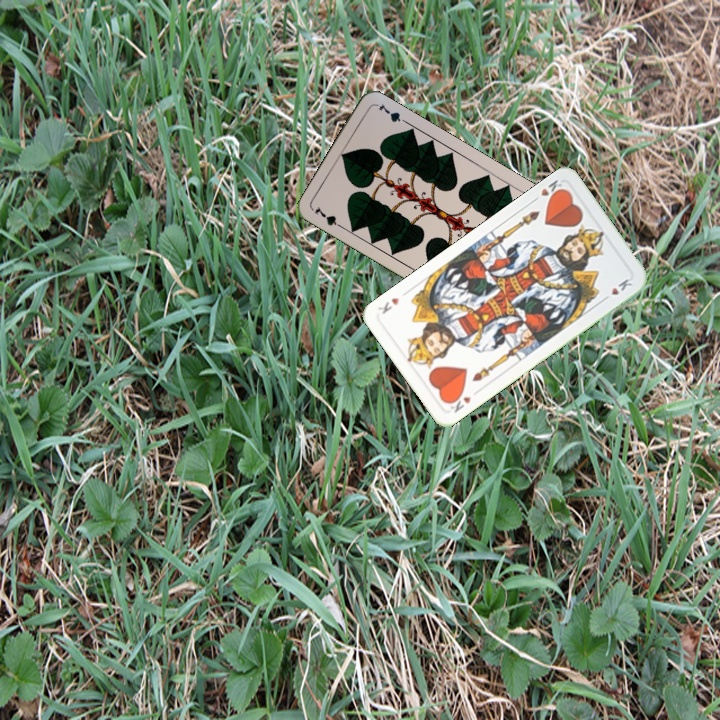G7: (310, 202, 347, 232)
HK: (528, 175, 567, 205), (444, 389, 474, 415)
